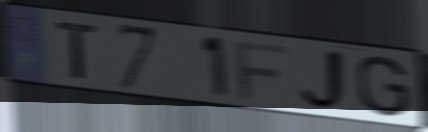1: (199, 35, 232, 100)
7: (117, 21, 162, 92)
F: (231, 39, 289, 103)
G: (353, 54, 413, 119)
J: (295, 46, 352, 114)
T: (54, 19, 101, 82)
